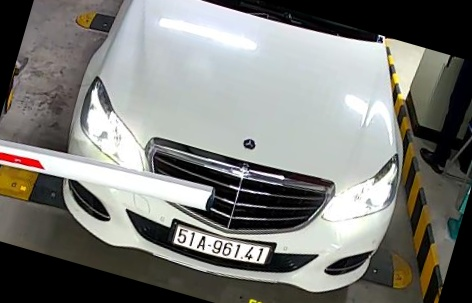plate: (166, 221, 277, 269)
